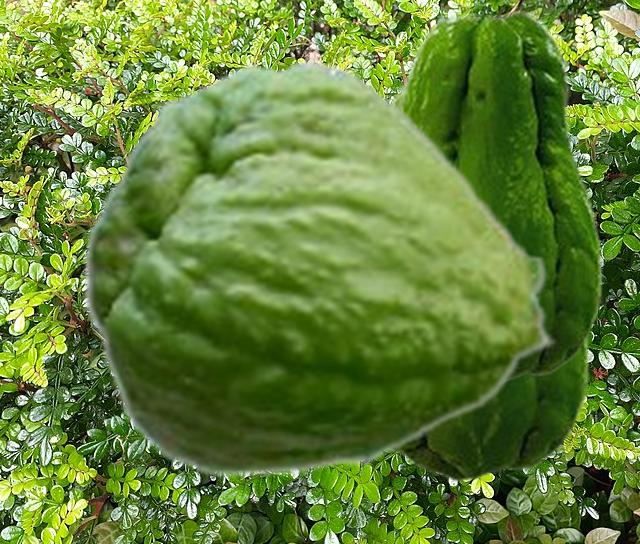sayote: (82, 57, 557, 479), (390, 80, 589, 482), (395, 8, 602, 386)
